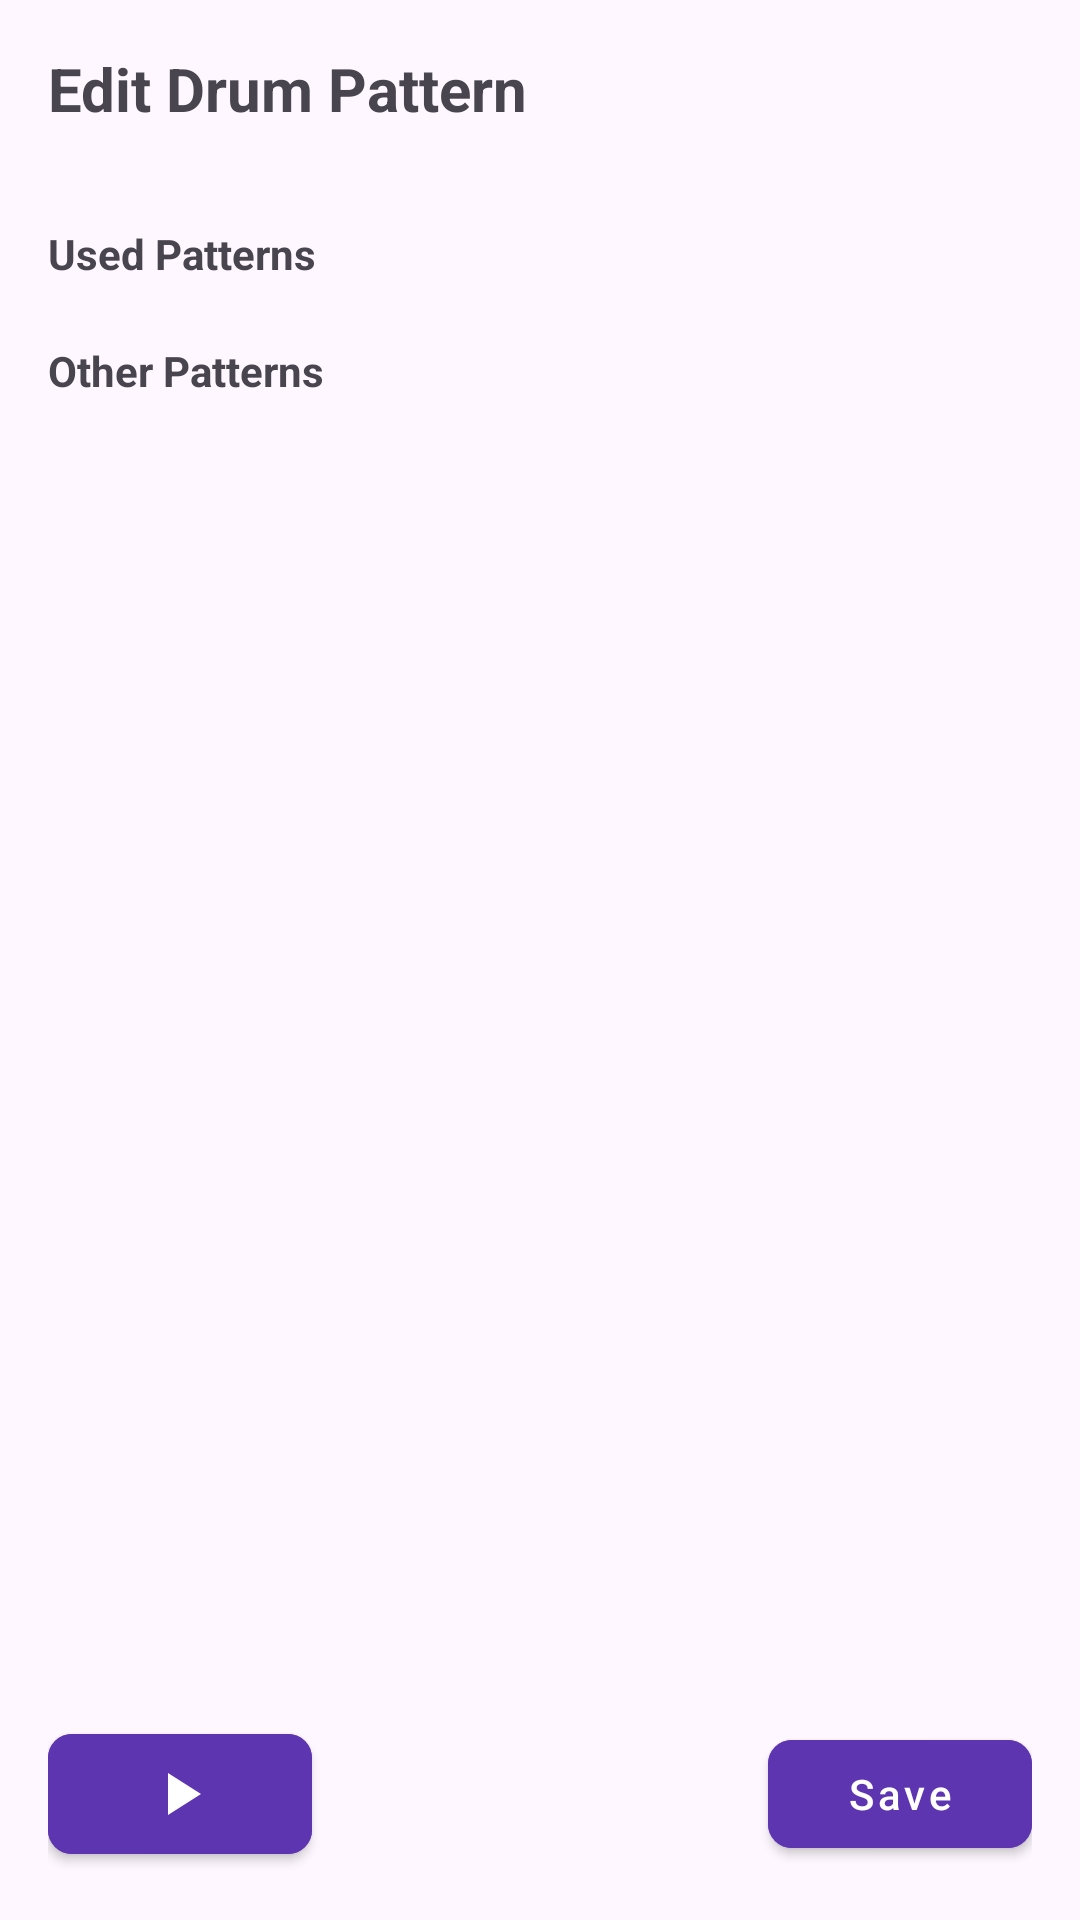

Icon bounding boxes for this 1080w x 1920h phone screenshot, format (x1, y1, x2, y2):
play arrow: (48, 1734, 312, 1860)
